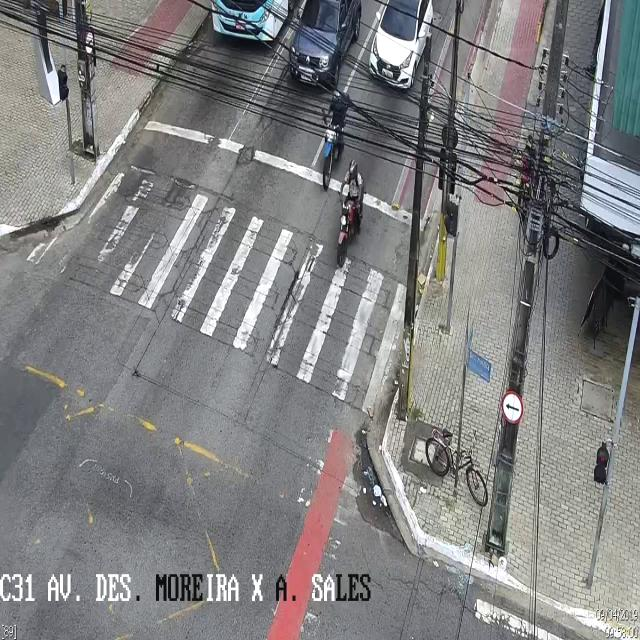Bus: (210, 0, 294, 44)
Car: (290, 3, 360, 85), (369, 2, 434, 90)
Motorcycle: (336, 156, 364, 268), (321, 86, 349, 186)
